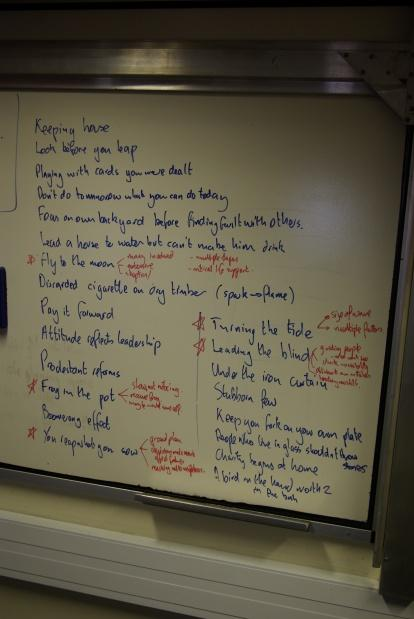Whiteboard: (0, 74, 410, 543)
